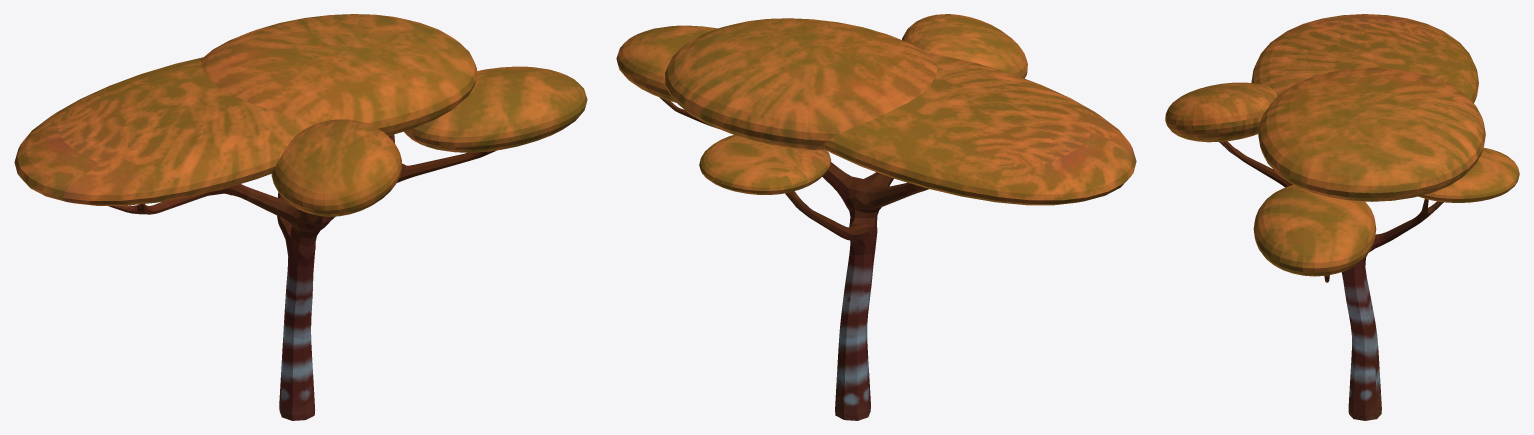
The model's file is TreesSmall.fbx.
3 views of the same model, side by side, from view 1: azimuth 30°, elevation 25°; view 2: azimuth 150°, elevation 25°; view 3: azimuth 270°, elevation 25° (orthographic). The views are drawn at different scales.
Parts seen in each view (by area): view 1: polySurface4; view 2: polySurface4; view 3: polySurface4.
Boxes of the visible parts, x1,y1,x2,y2 form: polySurface4: [14, 14, 587, 420]; polySurface4: [616, 14, 1136, 420]; polySurface4: [1165, 14, 1519, 420].
Bounding box in the file's own units: 4.4 × 2.85 × 2.78.
